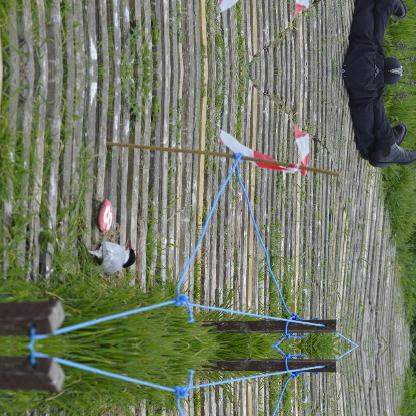Bird: (84, 238, 134, 280)
